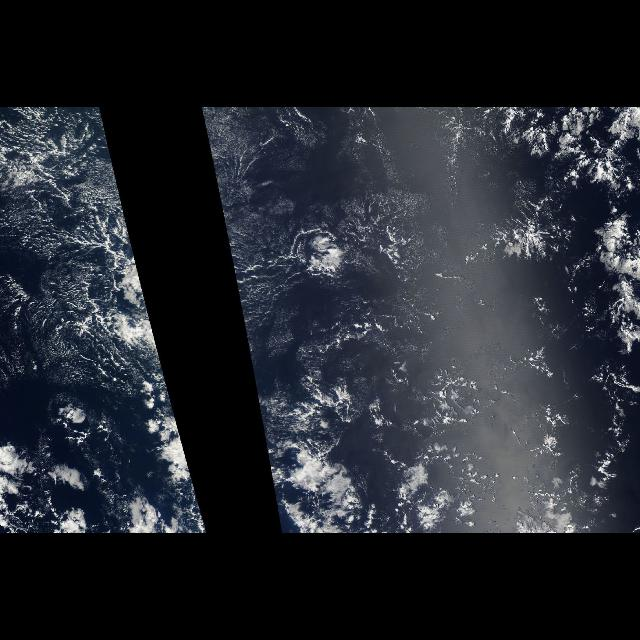Sugar: (0, 107, 168, 389), (202, 110, 290, 242)
